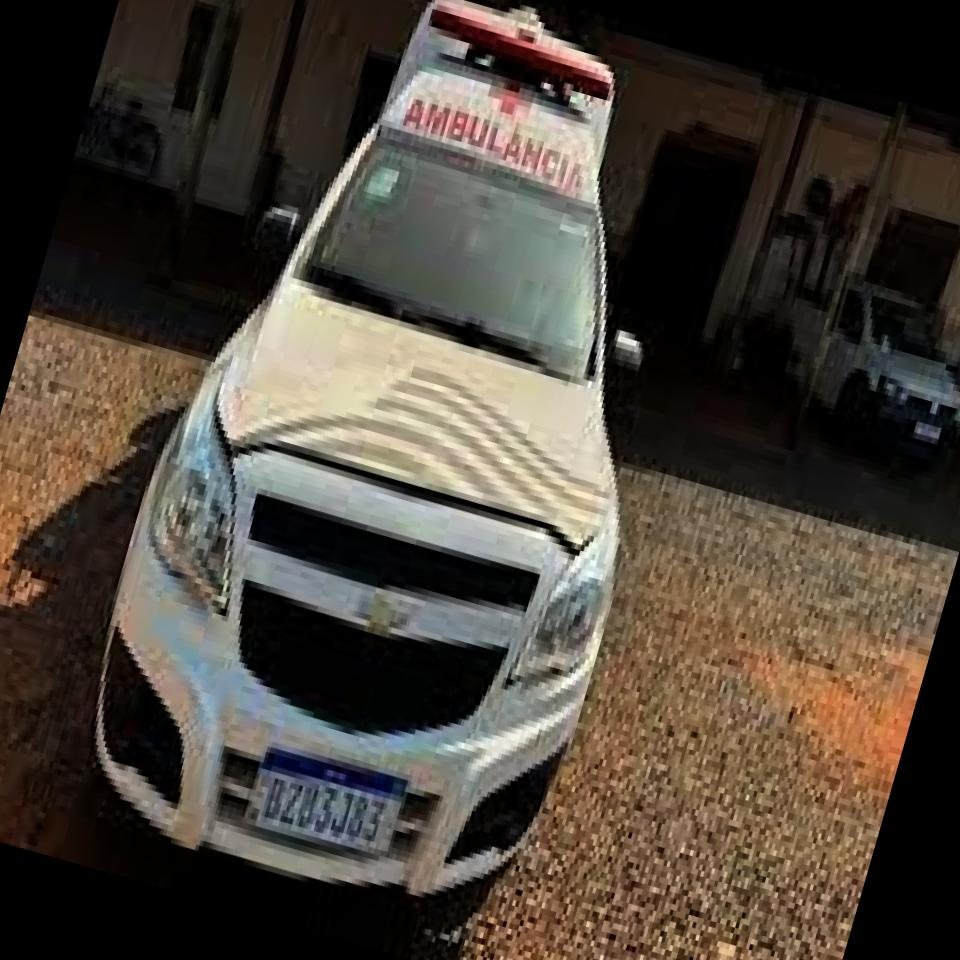bombeiro: (40, 0, 766, 960)
